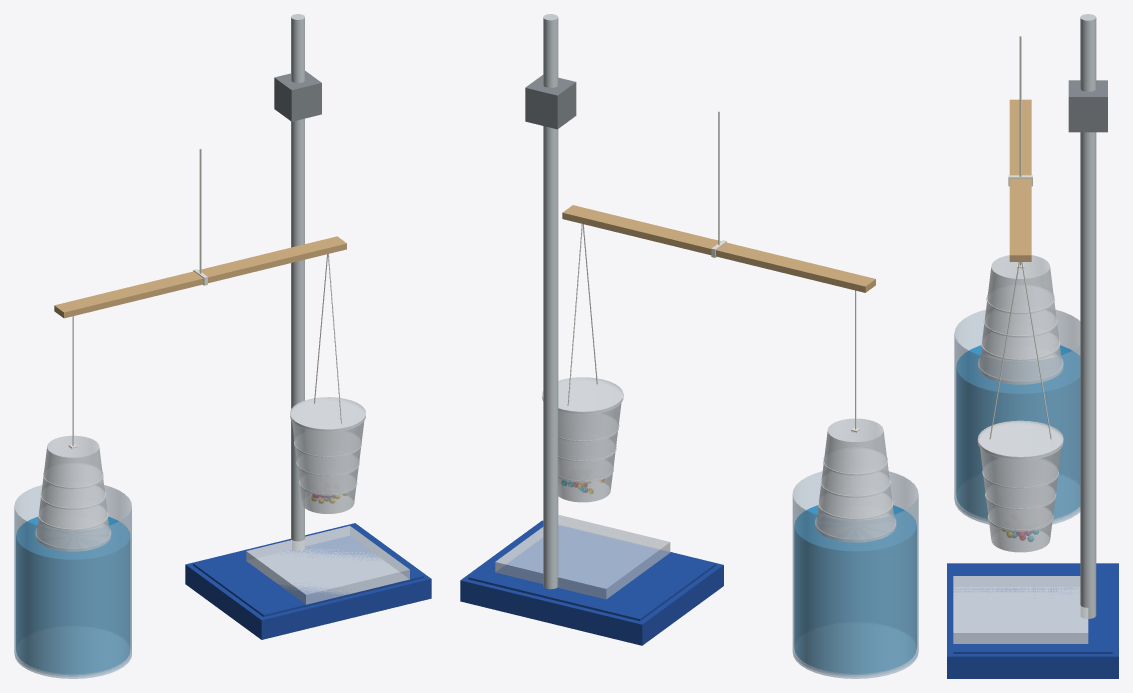
Rendered from surface_tension_apparatus.obj.
3 renders of one model, left to right at view 1: azimuth 30°, elevation 25°; view 2: azimuth 150°, elevation 25°; view 3: azimuth 270°, elevation 25°, orthographic. The views are drawn at different scales.
Visible parts, largest first — view 1: BeakerWall, SaltWaterLiquid, CatchTray, WeightCup, InvertedCup, StandBase, StandBaseTop, StandPole, LeverBar, CupRib, WeightCupRib, WeightCupLip (+2 smaller); view 2: BeakerWall, SaltWaterLiquid, StandBaseTop, StandPole, CatchTray, InvertedCup, StandBase, WeightCup, LeverBar, CupRib, WeightCupRib, CrossClamp (+2 smaller); view 3: BeakerWall, SaltWaterLiquid, StandPole, CatchTray, WeightCup, InvertedCup, StandBase, StandBaseTop, CupRib, WeightCupRib, LeverBar, WeightCupLip (+6 smaller).
Boxes of the visible parts, x1,y1,x2,y2 form: BeakerWall: (14, 485, 131, 676); SaltWaterLiquid: (16, 516, 130, 674); CatchTray: (246, 526, 409, 604); WeightCup: (291, 399, 364, 513); InvertedCup: (37, 435, 109, 547); StandBase: (185, 523, 431, 639); StandBaseTop: (193, 524, 423, 616); StandPole: (291, 14, 304, 550); LeverBar: (54, 236, 346, 318); CupRib: (38, 462, 108, 530); WeightCupRib: (294, 431, 361, 495); WeightCupLip: (290, 397, 365, 432); BeakerWall: (792, 471, 918, 676); SaltWaterLiquid: (794, 505, 916, 674); StandBaseTop: (468, 523, 715, 621); StandPole: (543, 14, 558, 589); CatchTray: (495, 515, 670, 599); InvertedCup: (816, 418, 894, 538); StandBase: (460, 520, 723, 645); WeightCup: (558, 379, 621, 502); LeverBar: (562, 205, 875, 292); CupRib: (818, 447, 893, 520); WeightCupRib: (558, 413, 619, 482); CrossClamp: (525, 75, 576, 129); BeakerWall: (954, 309, 1080, 522); SaltWaterLiquid: (956, 345, 1080, 519); StandPole: (1080, 14, 1096, 618); CatchTray: (953, 576, 1088, 643); WeightCup: (979, 422, 1061, 552); InvertedCup: (979, 255, 1061, 380); StandBase: (947, 563, 1118, 678); StandBaseTop: (953, 563, 1112, 653); CupRib: (981, 284, 1060, 361); WeightCupRib: (982, 458, 1058, 531); LeverBar: (1009, 99, 1031, 261); WeightCupLip: (977, 420, 1063, 460).
Size of what is drawn, in the model's own units: 39.9 by 56 by 14.
